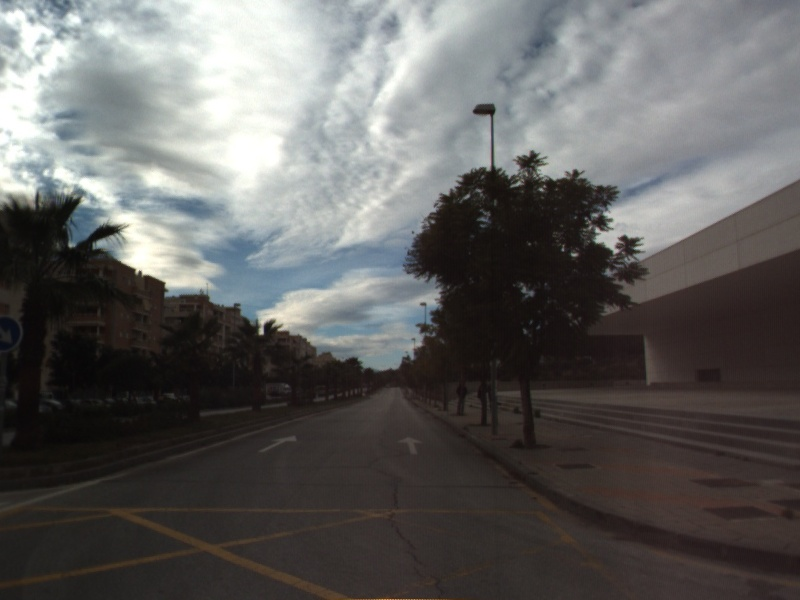STRAIGHT: (256, 433, 299, 454), (395, 434, 425, 457)
